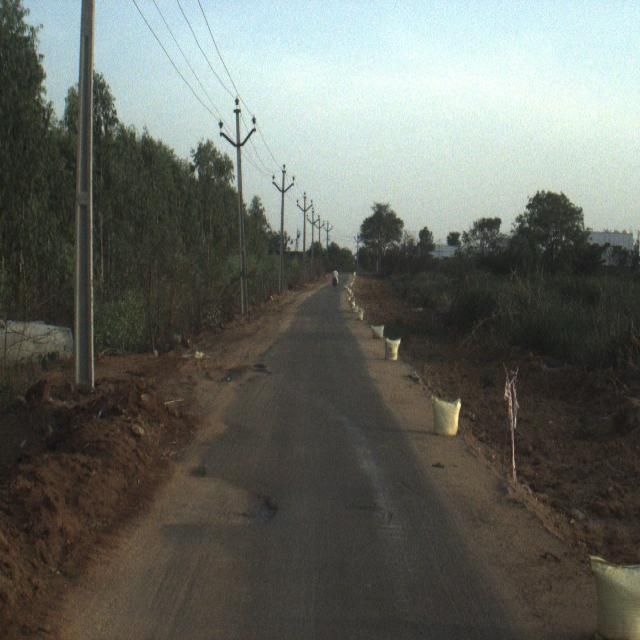pothole: (162, 461, 276, 534), (236, 350, 272, 383)
